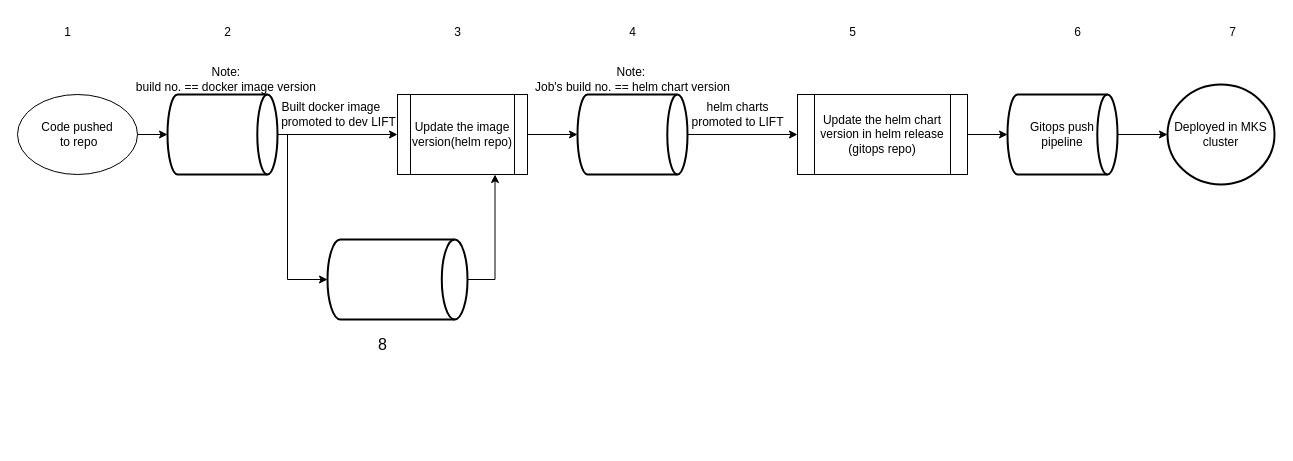
Image size: 1293x461. Some labels were removed from this diagram. Each missing label, with the centre of its shape:
Docker push pipeline: [222,134]
helm promotion pipeline: [632,134]
Lift promote pipeline to promote images to QA and PROD LIFT: [397,279]
